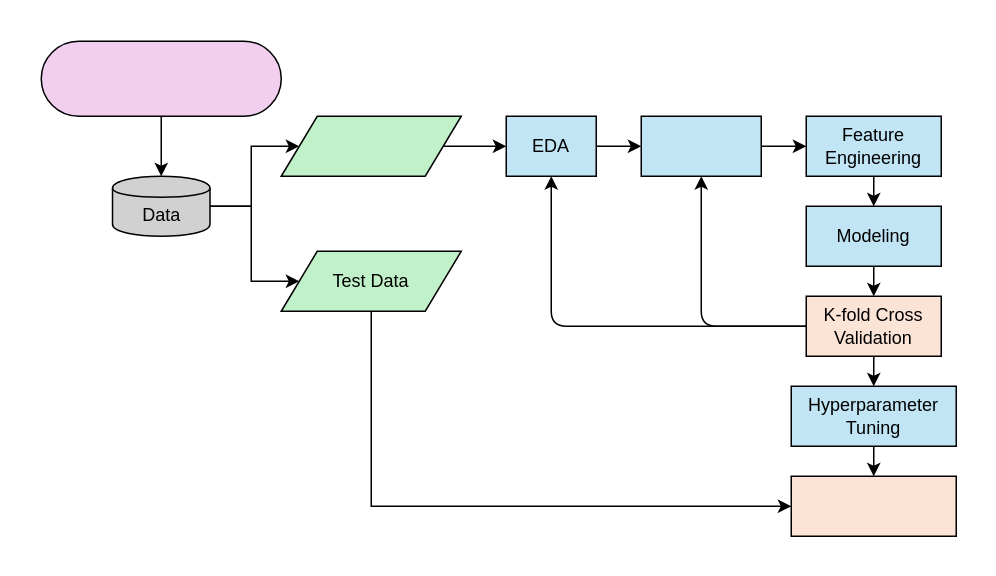
Some shapes in this 996 by 576 pixel diagram are drawn without their labels. Here are the shapes that lost their labels. From the top down, the centre of each, then its label:
At [160,78]: "Problem Setting Evaluation Metric".
At [370,145]: "Training Data".
At [700,145]: "Preprocess".
At [873,505]: "Test Evaluation".
